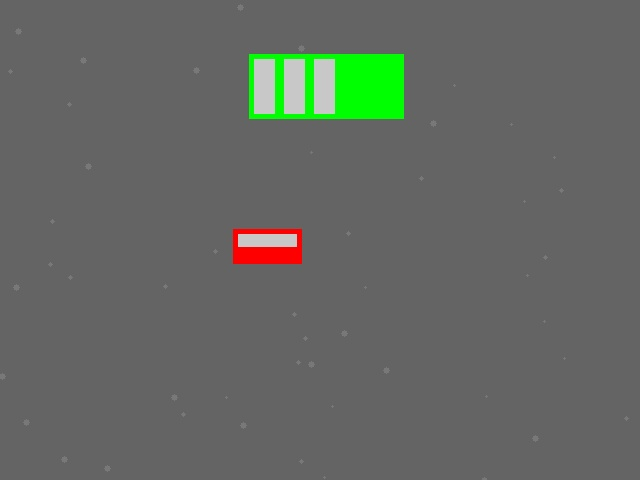bus: (249, 54, 403, 118)
car: (233, 229, 301, 263)
